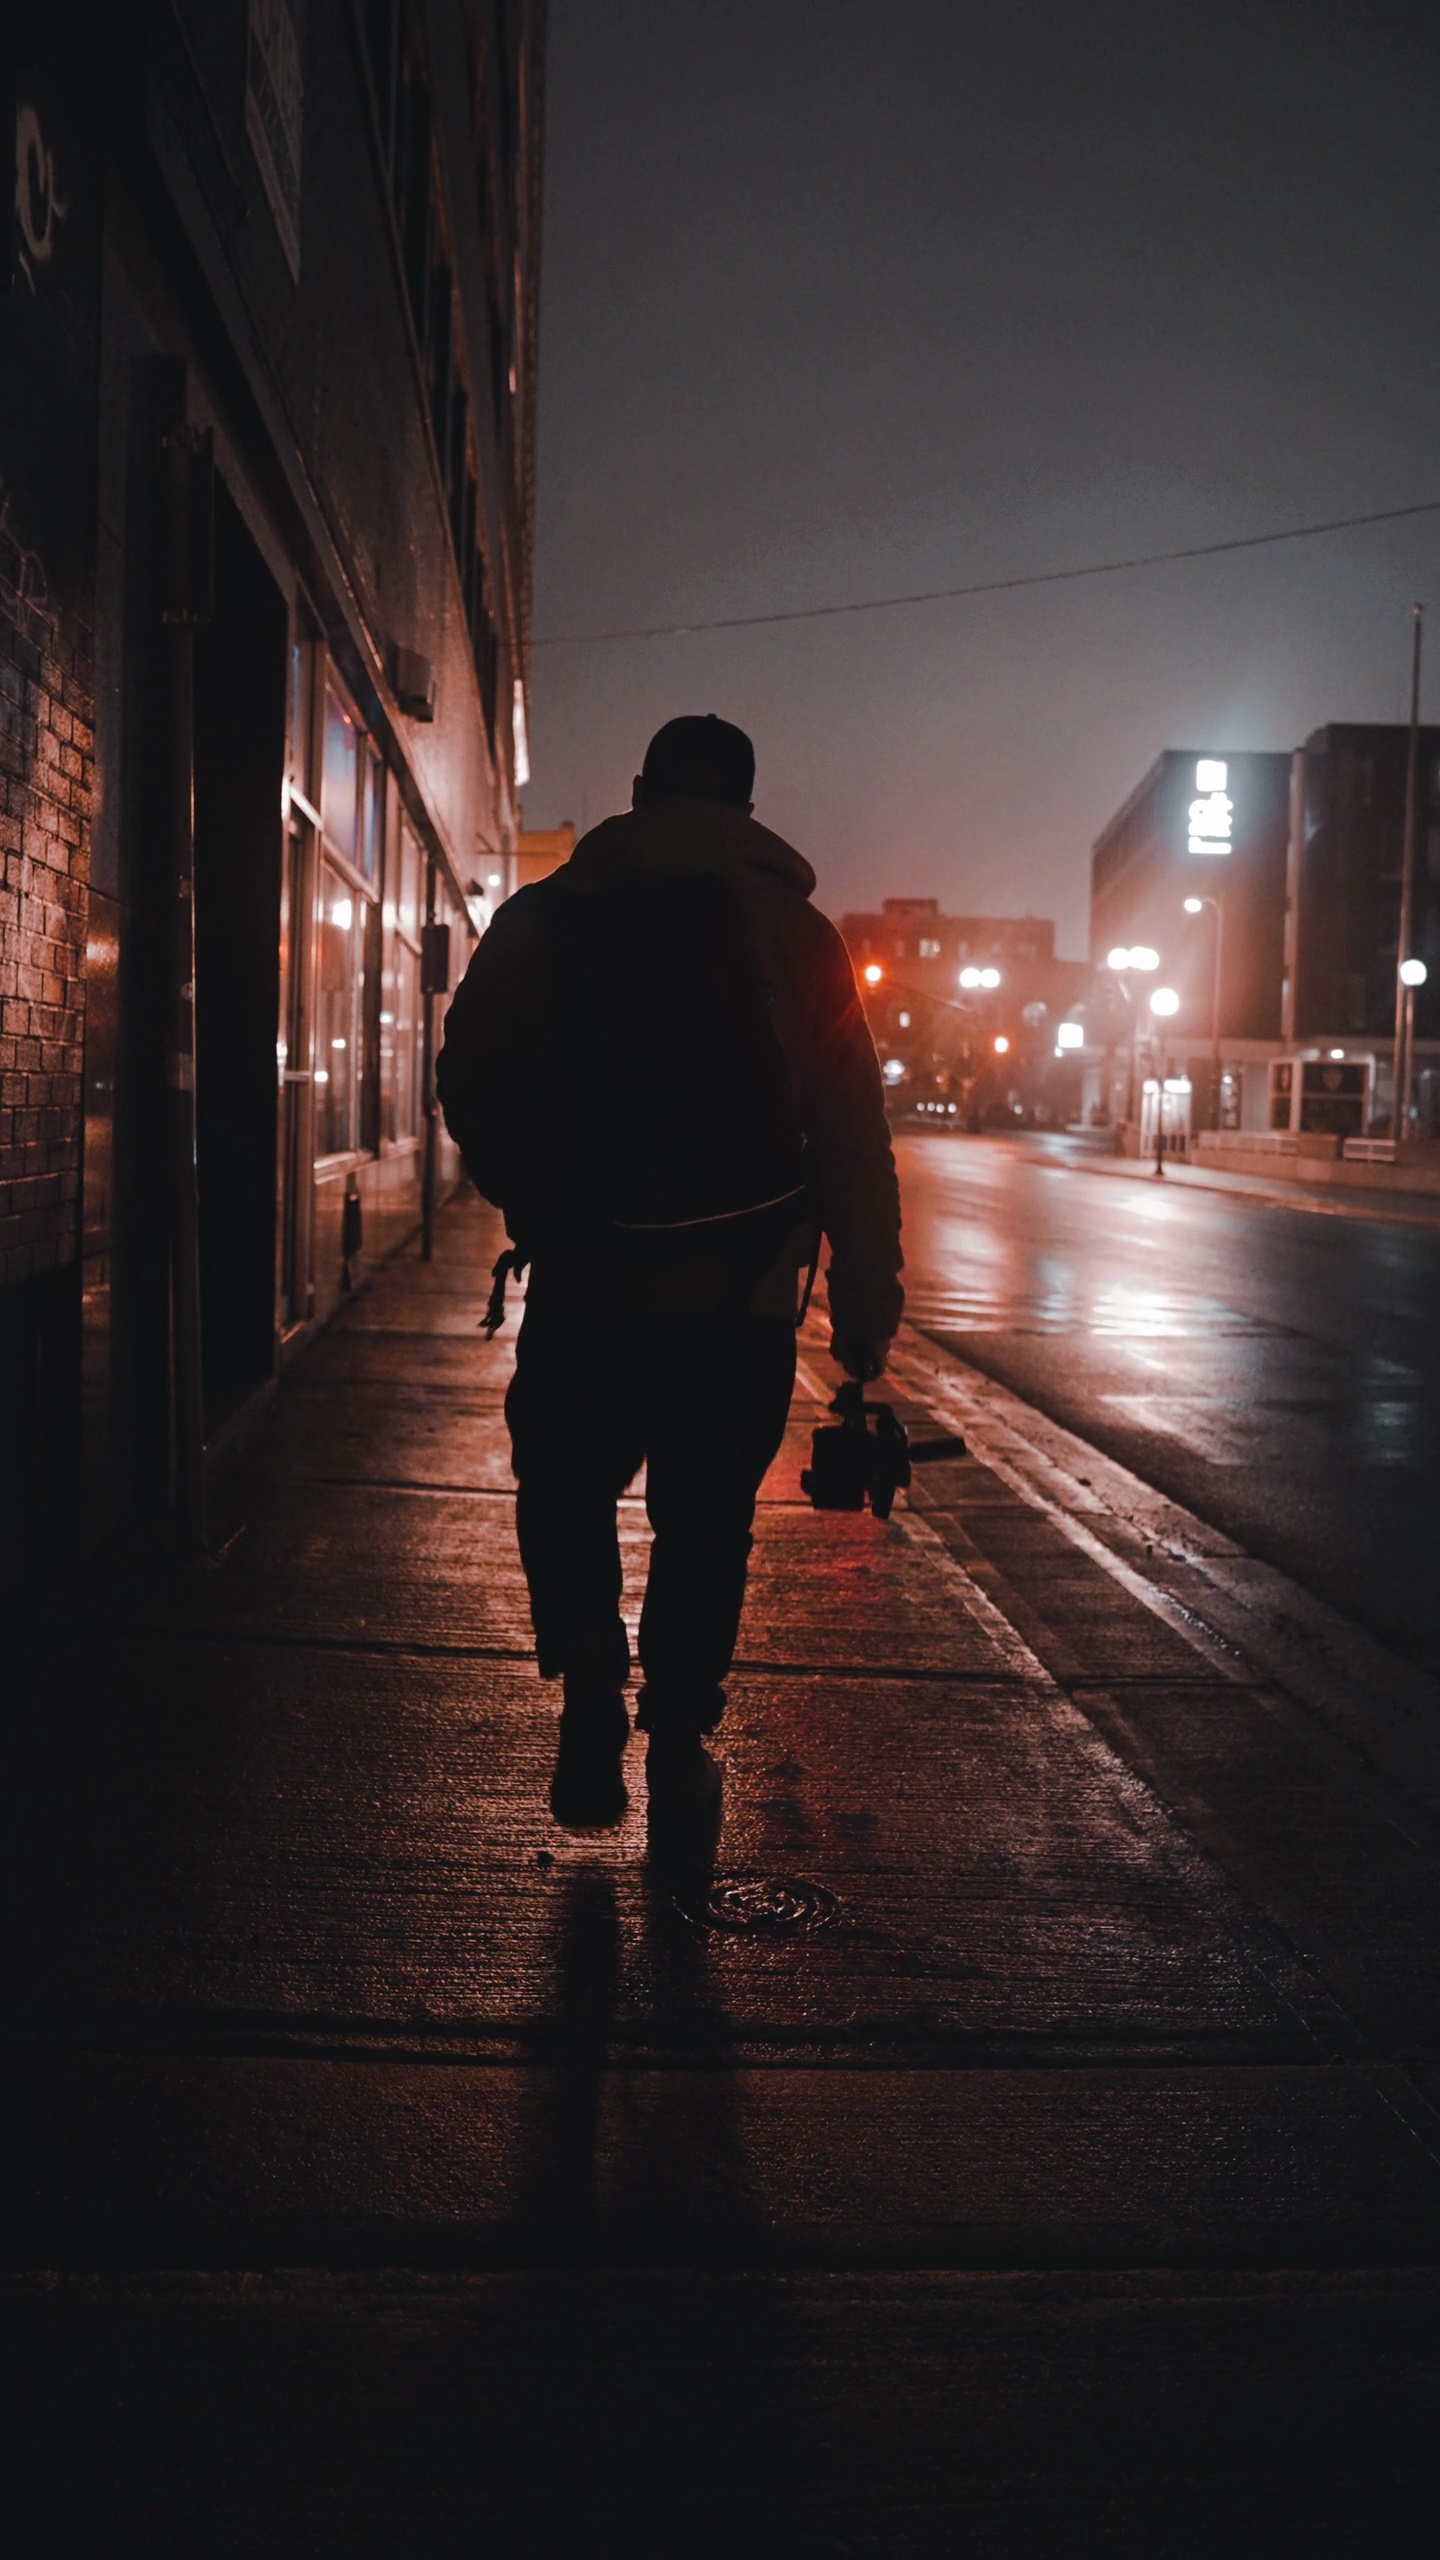person: (492, 702, 881, 1850)
